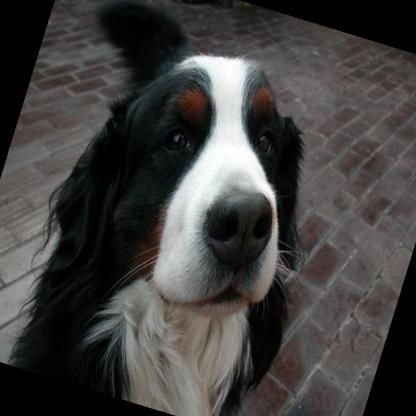Bernese_mountain_dog: (0, 13, 359, 416)
